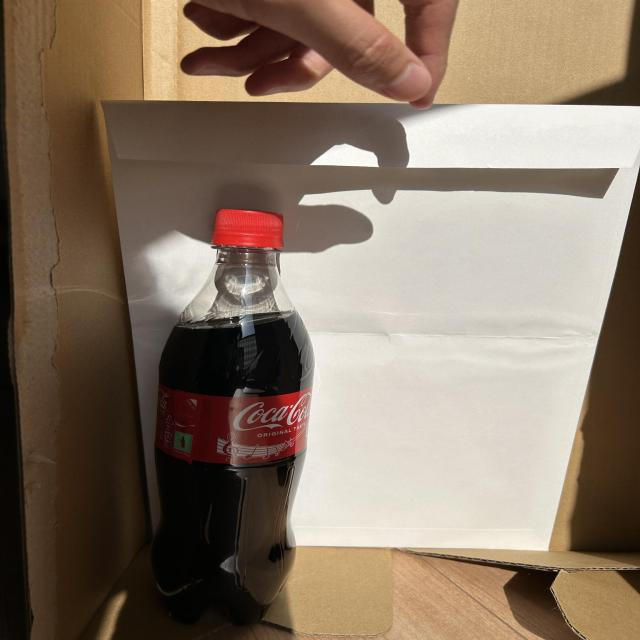high: (151, 209, 314, 624)
